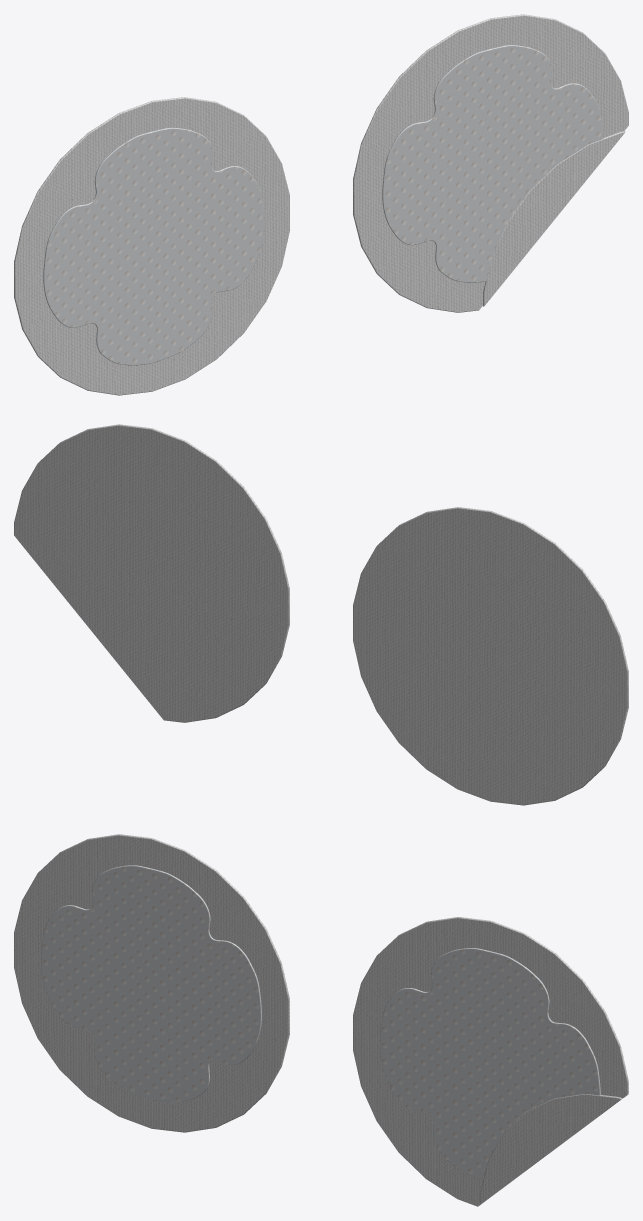
The model's file is parche.glb.
3 renders of one model, top to bottom at view 1: azimuth 30°, elevation 25°; view 2: azimuth 150°, elevation 25°; view 3: azimuth 330°, elevation 25°, orthographic.
Visible parts, largest first — view 1: Full Patch, Cover Patch; view 2: Full Patch, Cover Patch; view 3: Full Patch, Cover Patch.
Boxes of the visible parts, x1,y1,x2,y2 form: Full Patch: [14, 97, 289, 395]; Cover Patch: [353, 14, 628, 312]; Full Patch: [353, 507, 628, 805]; Cover Patch: [14, 424, 289, 722]; Full Patch: [14, 834, 289, 1132]; Cover Patch: [353, 917, 628, 1206].
Size of the model in its own units: 2.18 by 0.9855 by 0.0157.
2 materials, 2 textured.
